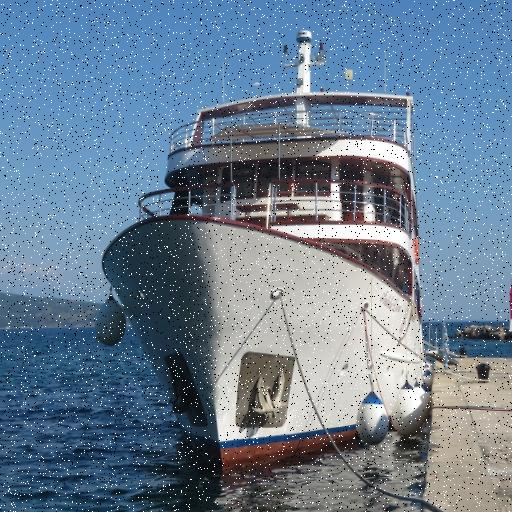cruises: (87, 28, 440, 481)
